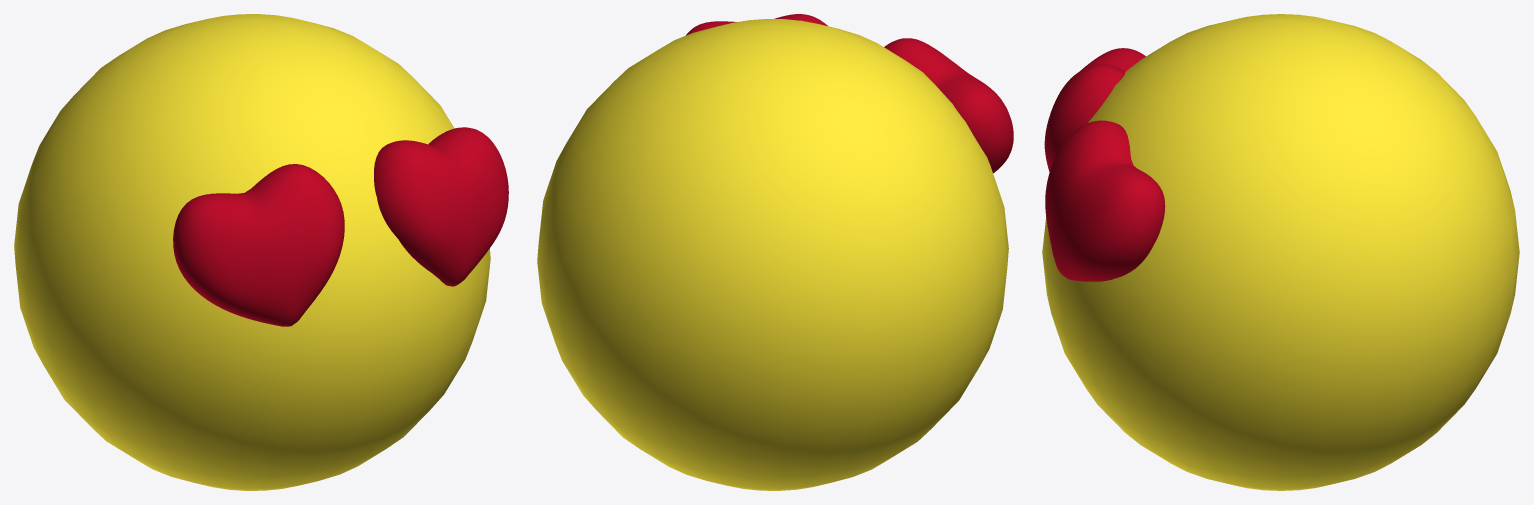
The model's file is Emoji.fbx.
3 views of the same model, side by side, from view 1: azimuth 30°, elevation 25°; view 2: azimuth 150°, elevation 25°; view 3: azimuth 270°, elevation 25° (orthographic).
Parts seen in each view (by area): view 1: Sphere.001; view 2: Sphere.001; view 3: Sphere.001.
Boxes of the visible parts, <box> form: Sphere.001: <box>14,14,508,490</box>; Sphere.001: <box>537,14,1013,490</box>; Sphere.001: <box>1042,14,1519,490</box>.
Size of the model in its own units: 8.25 by 8.25 by 8.25.
